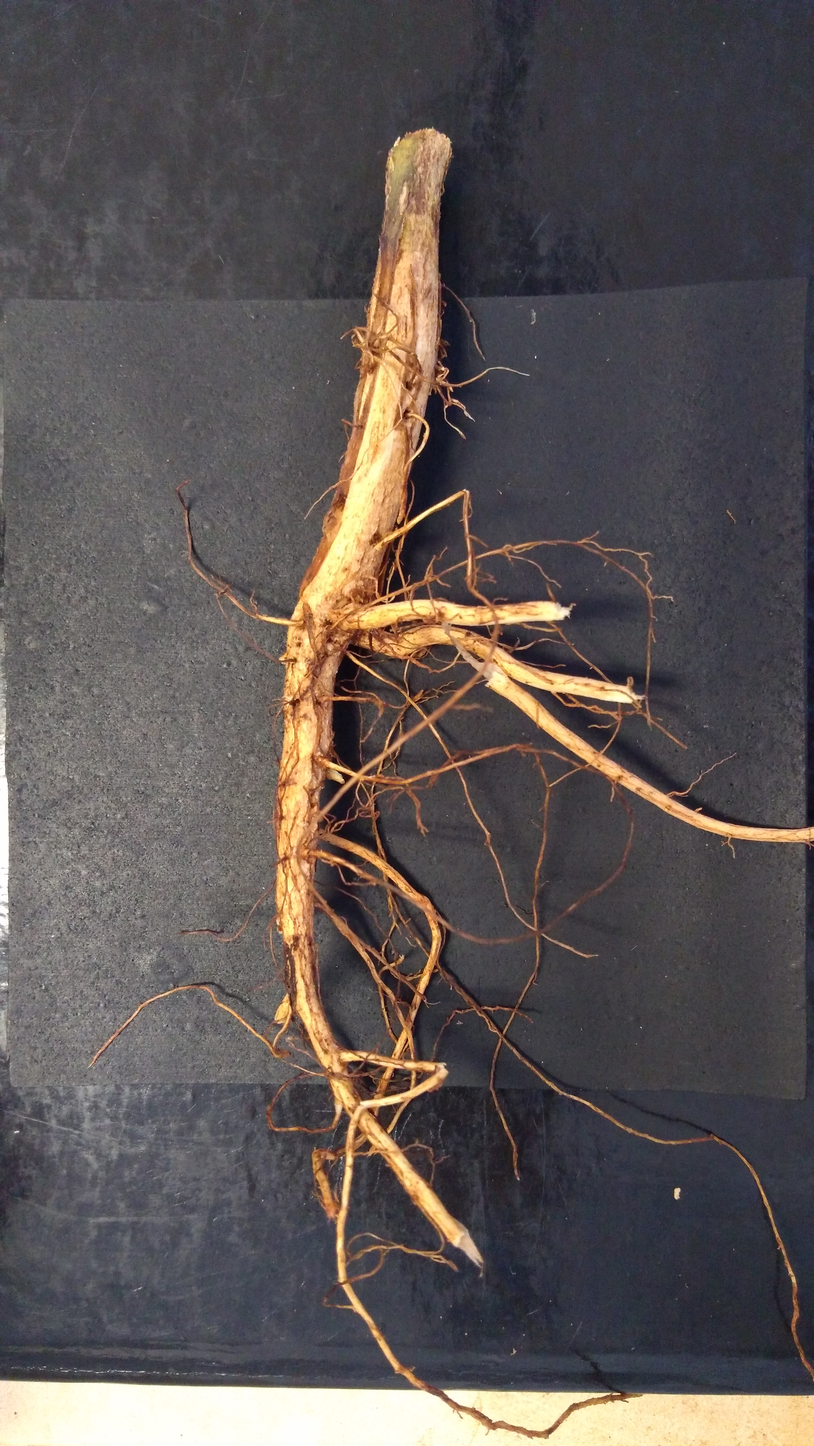nodule: (321, 623, 354, 656), (273, 992, 292, 1025), (341, 578, 366, 602), (357, 333, 382, 352), (278, 652, 288, 668), (673, 1186, 682, 1201)
